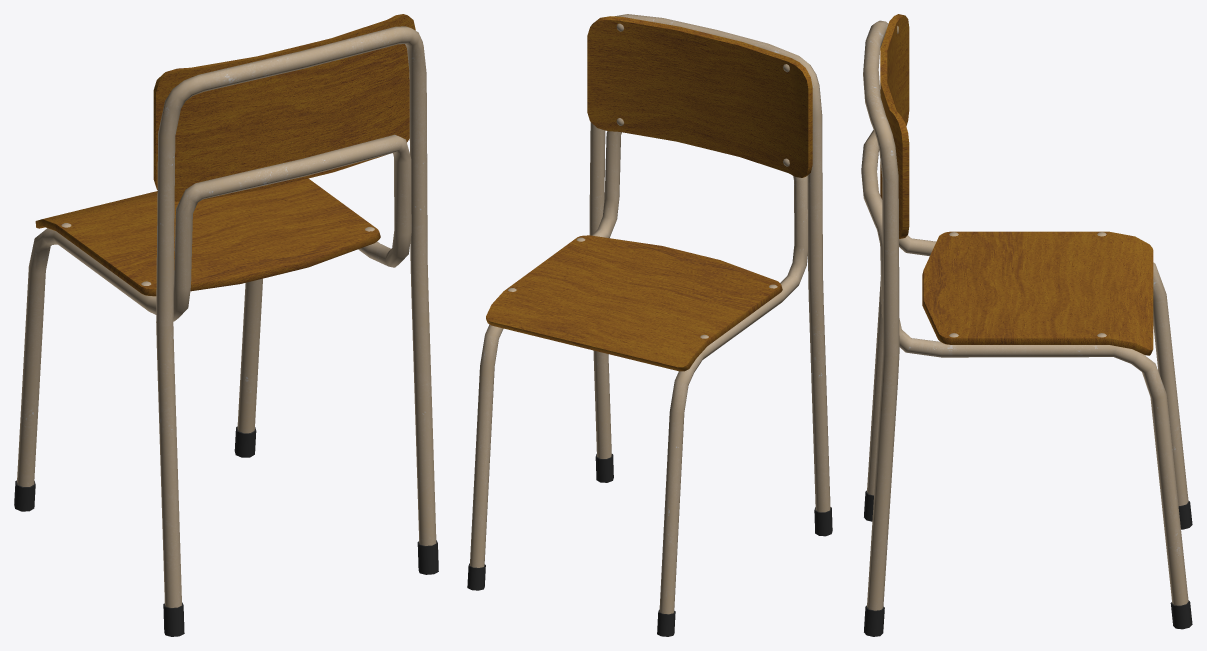
File: LOW_schoolChair.fbx
3 views of the same model, side by side, from view 1: azimuth 30°, elevation 25°; view 2: azimuth 150°, elevation 25°; view 3: azimuth 270°, elevation 25° (orthographic). The views are drawn at different scales.
Parts seen in each view (by area): view 1: LOW.schoolChair; view 2: LOW.schoolChair; view 3: LOW.schoolChair.
Boxes of the visible parts, left/top/right/bottom form: LOW.schoolChair: left=14, top=14, right=438, bottom=636; LOW.schoolChair: left=467, top=14, right=832, bottom=636; LOW.schoolChair: left=861, top=14, right=1192, bottom=636.
Bounding box in the file's own units: 0.4022 × 0.7782 × 0.4569.
Materials: 3 (2 with a texture image).
